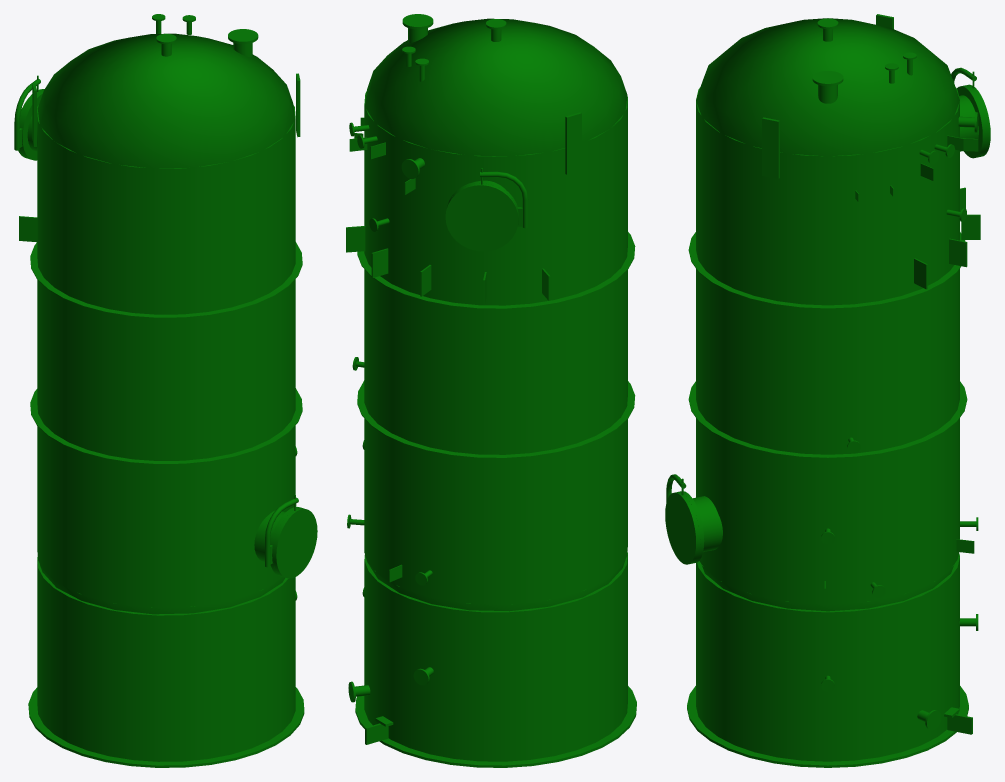
File: Image-1710907768898-2281131381216_42-VL56.fbx
The picture shows the model from 3 angles, left to right: view 1: azimuth 30°, elevation 25°; view 2: azimuth 150°, elevation 25°; view 3: azimuth 270°, elevation 25°; orthographic projection. The views are drawn at different scales.
Visible parts, largest first — view 1: CYLINDER 1 of SUBEQUIPMENT /42-VL56/PRIM, CYLINDER 1 of SUBEQUIPMENT /42-VL56/SKIRT, DISH 2 of SUBEQUIPMENT /42-VL56/PRIM, CYLINDER 2 of SUBEQUIPMENT /42-VL56/SKIRT, CYLINDER 2 of SUBEQUIPMENT /42-VL56/NOZZ, CYLINDER 3 of SUBEQUIPMENT /42-VL56/PRIM, CYLINDER 2 of SUBEQUIPMENT /42-VL56/PRIM, DISH 1 of SUBEQUIPMENT /42-VL56/PRIM, /42-VL56/M1, /42-VL56/M2, /42-VL56/N7; view 2: CYLINDER 1 of SUBEQUIPMENT /42-VL56/PRIM, CYLINDER 1 of SUBEQUIPMENT /42-VL56/SKIRT, DISH 2 of SUBEQUIPMENT /42-VL56/PRIM, CYLINDER 3 of SUBEQUIPMENT /42-VL56/NOZZ, CYLINDER 2 of SUBEQUIPMENT /42-VL56/SKIRT, CYLINDER 2 of SUBEQUIPMENT /42-VL56/PRIM, CYLINDER 3 of SUBEQUIPMENT /42-VL56/PRIM, DISH 1 of SUBEQUIPMENT /42-VL56/PRIM, BOX 3 of SUBEQUIPMENT /42-VL56/PRIM, /42-VL56/N7, BOX 1 of SUBEQUIPMENT /42-VL56/CLIPS; view 3: CYLINDER 1 of SUBEQUIPMENT /42-VL56/PRIM, CYLINDER 1 of SUBEQUIPMENT /42-VL56/SKIRT, DISH 2 of SUBEQUIPMENT /42-VL56/PRIM, CYLINDER 2 of SUBEQUIPMENT /42-VL56/SKIRT, CYLINDER 2 of SUBEQUIPMENT /42-VL56/NOZZ, CYLINDER 2 of SUBEQUIPMENT /42-VL56/PRIM, CYLINDER 3 of SUBEQUIPMENT /42-VL56/PRIM, DISH 1 of SUBEQUIPMENT /42-VL56/PRIM, /42-VL56/M1, /42-VL56/M2, BOX 4 of SUBEQUIPMENT /42-VL56/PRIM, /42-VL56/N7.
Boxes of the visible parts, x1,y1,x2,y2 form: CYLINDER 1 of SUBEQUIPMENT /42-VL56/PRIM: (37, 105, 295, 607); CYLINDER 1 of SUBEQUIPMENT /42-VL56/SKIRT: (37, 557, 295, 761); DISH 2 of SUBEQUIPMENT /42-VL56/PRIM: (37, 33, 295, 168); CYLINDER 2 of SUBEQUIPMENT /42-VL56/SKIRT: (28, 687, 304, 767); CYLINDER 2 of SUBEQUIPMENT /42-VL56/NOZZ: (272, 508, 317, 578); CYLINDER 3 of SUBEQUIPMENT /42-VL56/PRIM: (30, 242, 302, 318); CYLINDER 2 of SUBEQUIPMENT /42-VL56/PRIM: (30, 388, 302, 464); DISH 1 of SUBEQUIPMENT /42-VL56/PRIM: (40, 564, 284, 614); /42-VL56/M1: (254, 507, 302, 576); /42-VL56/M2: (20, 90, 43, 160); /42-VL56/N7: (228, 29, 258, 57); CYLINDER 1 of SUBEQUIPMENT /42-VL56/PRIM: (364, 91, 627, 604); CYLINDER 1 of SUBEQUIPMENT /42-VL56/SKIRT: (364, 552, 627, 761); DISH 2 of SUBEQUIPMENT /42-VL56/PRIM: (365, 18, 627, 156); CYLINDER 3 of SUBEQUIPMENT /42-VL56/NOZZ: (445, 183, 518, 251); CYLINDER 2 of SUBEQUIPMENT /42-VL56/SKIRT: (355, 686, 636, 767); CYLINDER 2 of SUBEQUIPMENT /42-VL56/PRIM: (357, 380, 635, 458); CYLINDER 3 of SUBEQUIPMENT /42-VL56/PRIM: (357, 232, 635, 309); DISH 1 of SUBEQUIPMENT /42-VL56/PRIM: (365, 555, 625, 611); BOX 3 of SUBEQUIPMENT /42-VL56/PRIM: (565, 112, 581, 174); /42-VL56/N7: (402, 14, 433, 42); BOX 1 of SUBEQUIPMENT /42-VL56/CLIPS: (346, 226, 365, 252); CYLINDER 1 of SUBEQUIPMENT /42-VL56/PRIM: (696, 87, 959, 604); CYLINDER 1 of SUBEQUIPMENT /42-VL56/SKIRT: (696, 553, 959, 761); DISH 2 of SUBEQUIPMENT /42-VL56/PRIM: (696, 18, 959, 156); CYLINDER 2 of SUBEQUIPMENT /42-VL56/SKIRT: (687, 686, 968, 767); CYLINDER 2 of SUBEQUIPMENT /42-VL56/NOZZ: (665, 492, 700, 564); CYLINDER 2 of SUBEQUIPMENT /42-VL56/PRIM: (688, 381, 967, 458); CYLINDER 3 of SUBEQUIPMENT /42-VL56/PRIM: (688, 232, 965, 309); DISH 1 of SUBEQUIPMENT /42-VL56/PRIM: (701, 564, 954, 611); /42-VL56/M1: (679, 491, 722, 563); /42-VL56/M2: (957, 85, 986, 158); BOX 4 of SUBEQUIPMENT /42-VL56/PRIM: (762, 117, 779, 178); /42-VL56/N7: (812, 71, 843, 103).
Bounding box in the file's own units: 3.24 × 3.61 × 8.38.
